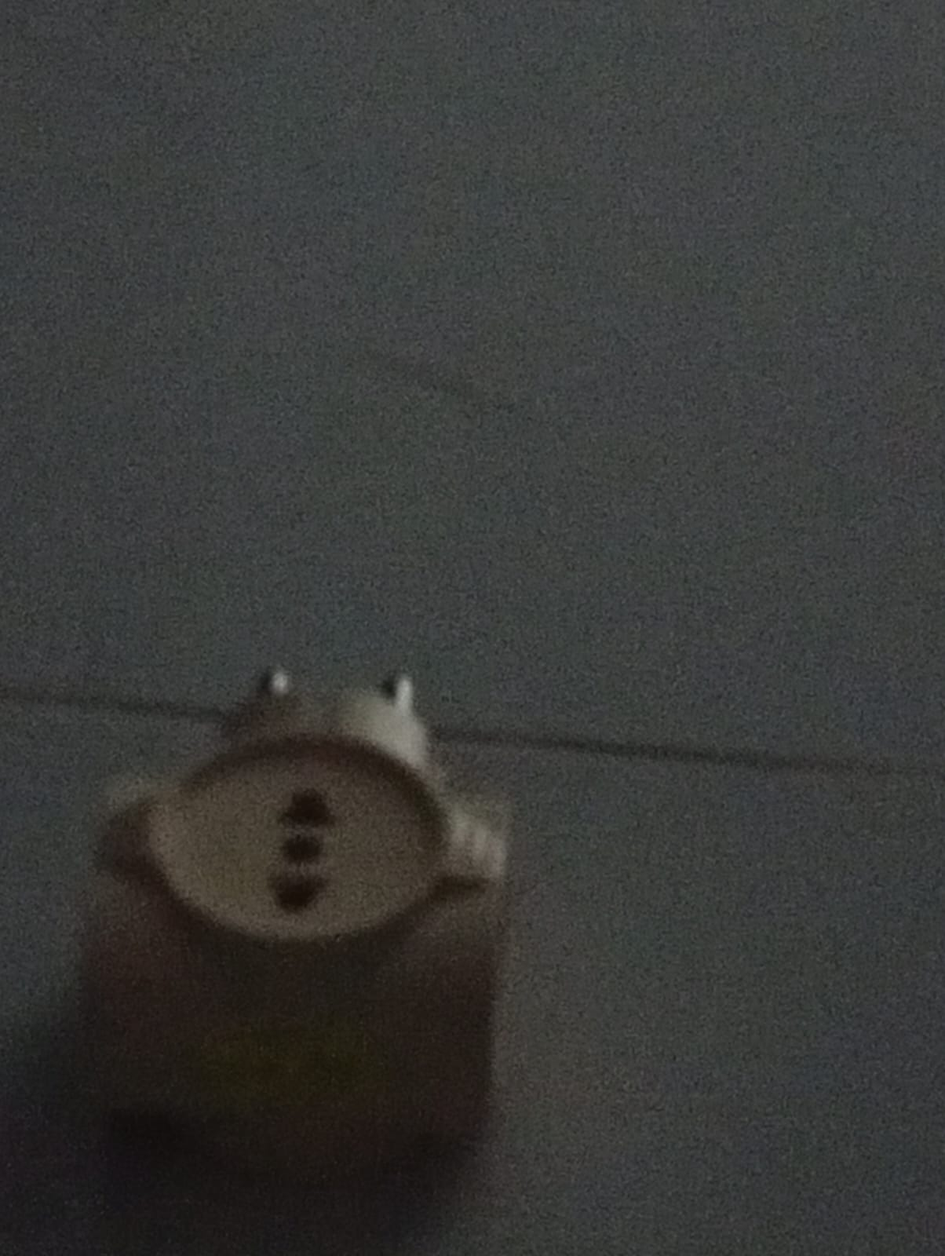Colokan: (45, 647, 541, 1171)
